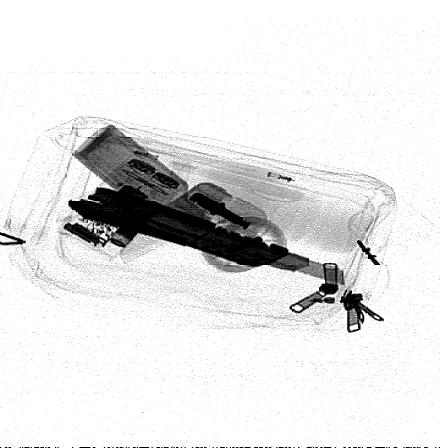Knife: (67, 185, 346, 287)
